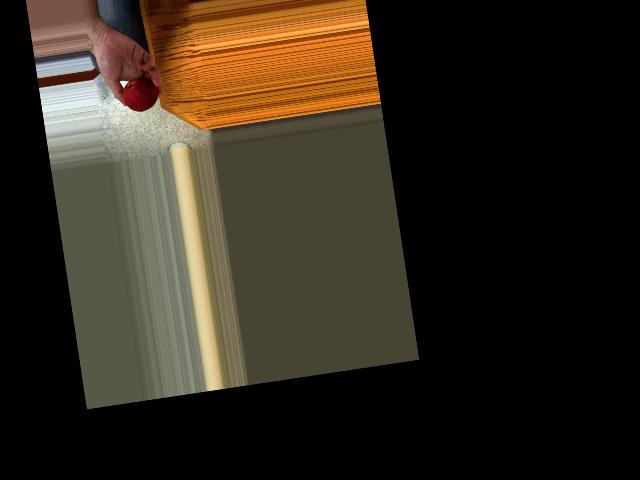apple: (118, 75, 162, 115)
